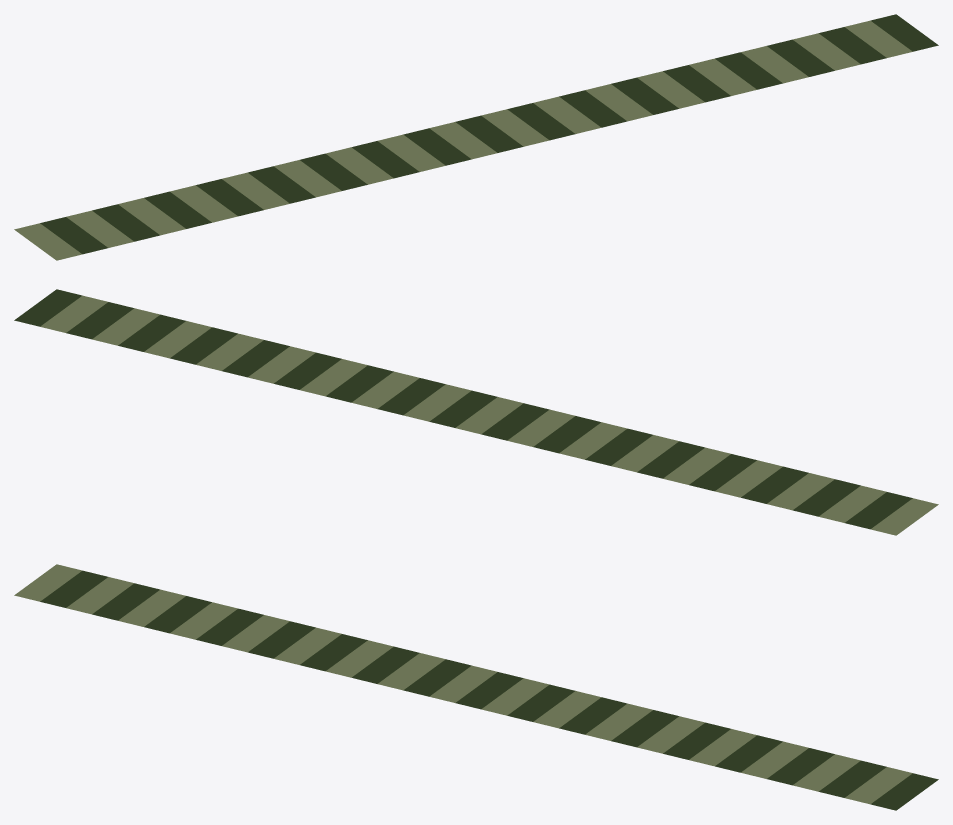
File: Plano.fbx
The picture shows the model from 3 angles, top to bottom: view 1: azimuth 30°, elevation 25°; view 2: azimuth 150°, elevation 25°; view 3: azimuth 330°, elevation 25°; orthographic projection.
Visible parts, largest first — view 1: Plane; view 2: Plane; view 3: Plane.
Boxes of the visible parts, x1=… form: Plane: x1=14, y1=14, x2=938, y2=260; Plane: x1=14, y1=289, x2=938, y2=535; Plane: x1=14, y1=564, x2=938, y2=810.
Size of the model in its own units: 17900 by 0 by 1500.
Materials: 1 (1 with a texture image).
